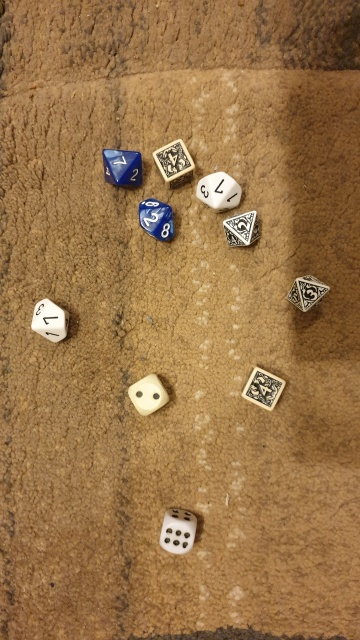d10-2: (132, 195, 181, 248)
d10-7: (29, 294, 77, 350), (94, 142, 146, 193), (194, 168, 244, 211)
d6-2: (125, 369, 171, 422)
d6-6: (156, 496, 198, 560)
d6p-4: (235, 362, 288, 415), (152, 135, 197, 189)
d8p-2: (220, 212, 269, 250)
d8p-3: (284, 270, 333, 320)
